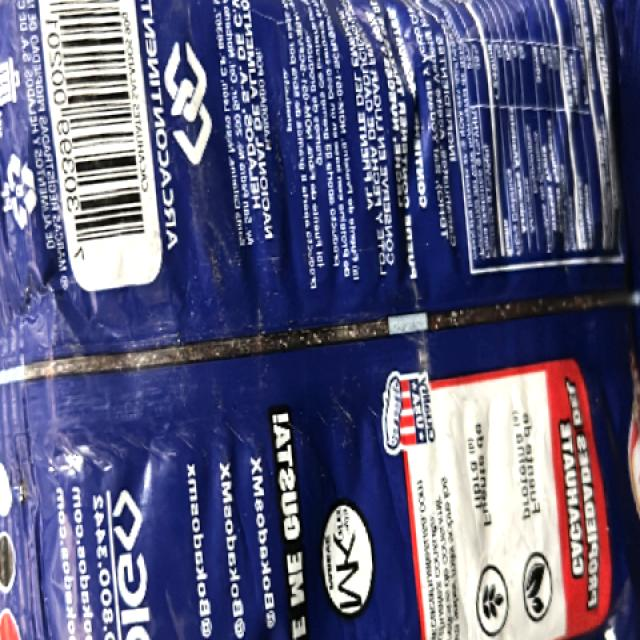productoAtras: (10, 7, 614, 634)
